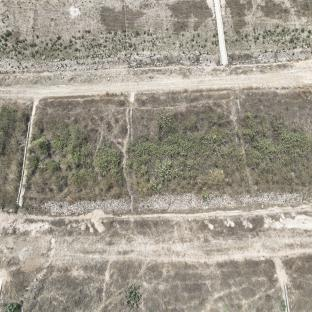rock_toe: (26, 190, 312, 219), (1, 50, 219, 72), (228, 43, 311, 65)
slope_drain: (15, 100, 39, 209), (213, 0, 229, 68)
vegetation: (55, 125, 312, 183)
